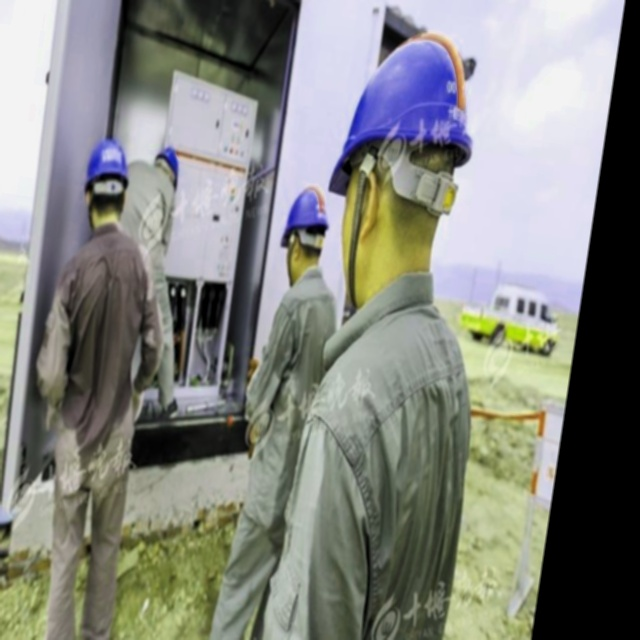Con_Casco: (315, 22, 485, 311)
